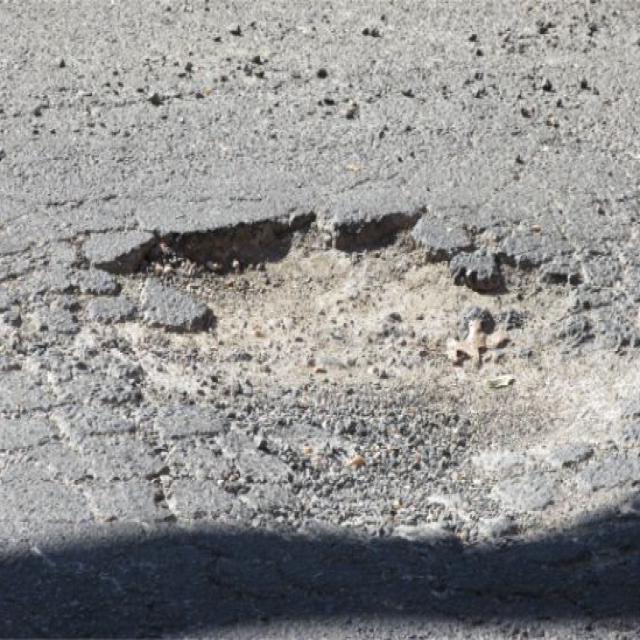Pothole: (97, 194, 597, 396)
